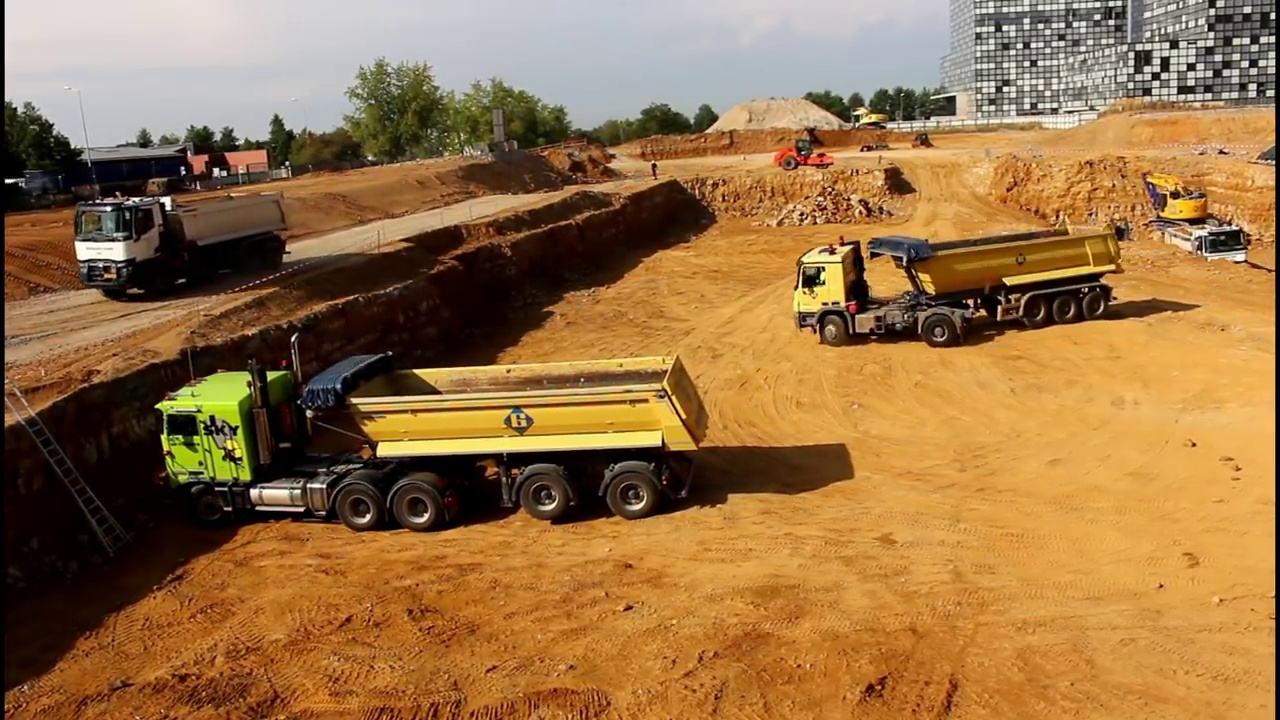compactor: (772, 136, 837, 172)
excavator: (1137, 169, 1217, 241), (847, 105, 891, 131)
truck: (150, 327, 712, 536), (791, 226, 1130, 350), (71, 189, 292, 303), (1160, 216, 1253, 272)
worker: (650, 152, 664, 185)
